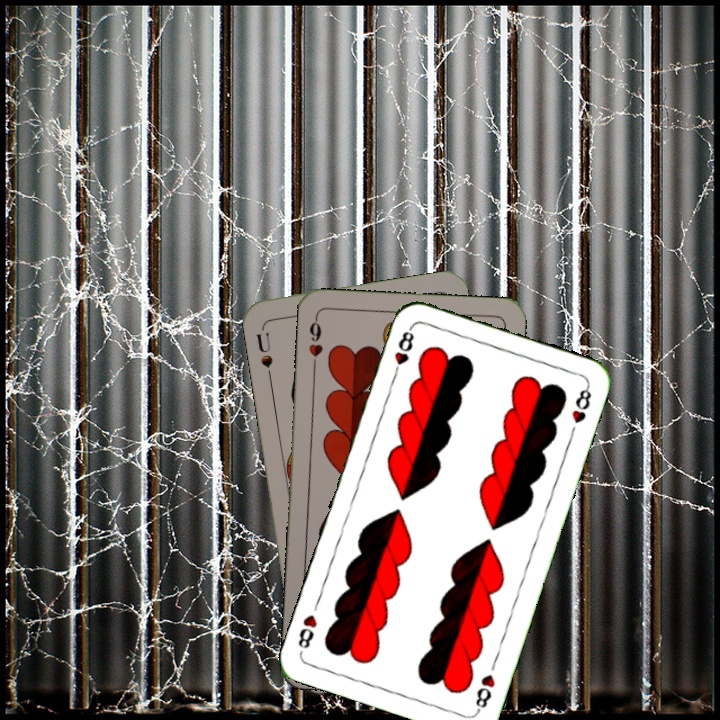H8: (389, 323, 417, 381), (471, 670, 498, 715)
H9: (305, 313, 325, 372)
SU: (252, 323, 275, 382)
